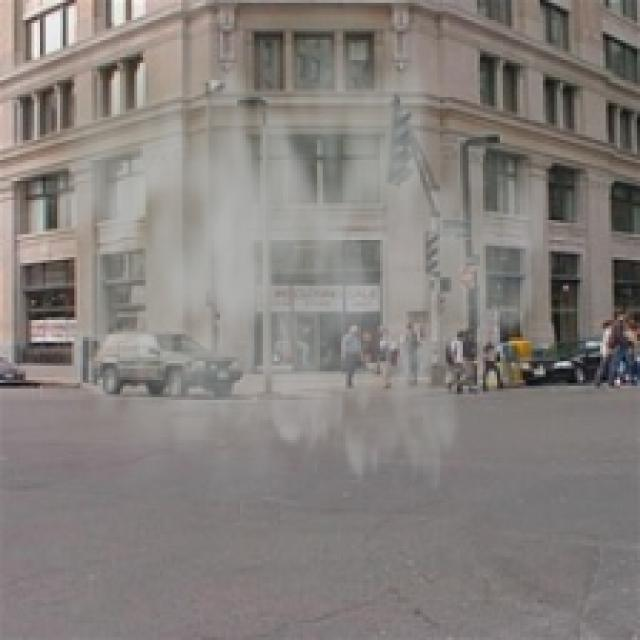smoke: (20, 6, 543, 540)
